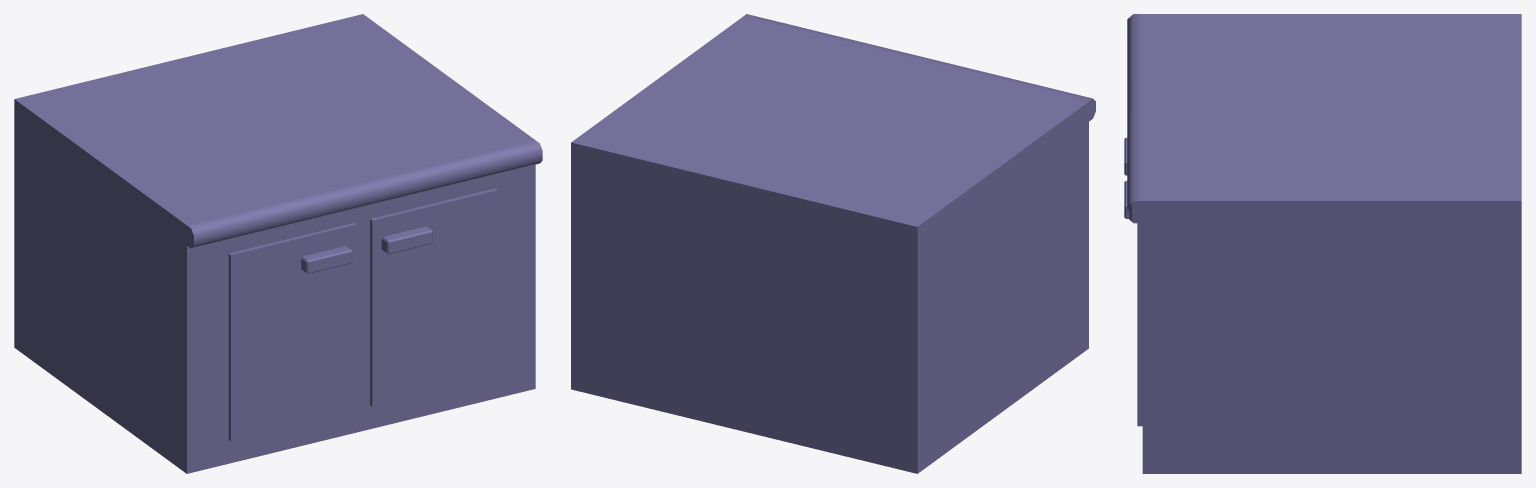
File: BlockACocina01.fbx
3 views of the same model, side by side, from view 1: azimuth 30°, elevation 25°; view 2: azimuth 150°, elevation 25°; view 3: azimuth 270°, elevation 25° (orthographic). The views are drawn at different scales.
Visible parts, largest first — view 1: MesadaCocina2; view 2: MesadaCocina2; view 3: MesadaCocina2.
Part boxes in pixels (left/top/right/bottom): MesadaCocina2: left=14, top=14, right=542, bottom=473; MesadaCocina2: left=571, top=14, right=1095, bottom=473; MesadaCocina2: left=1124, top=14, right=1521, bottom=473.
Size of the model in its own units: 1.17 by 0.8 by 1.05.
